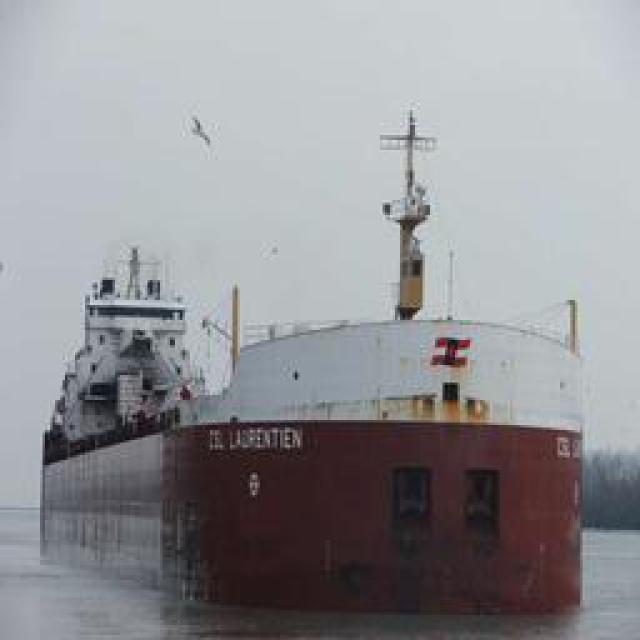Ship: (42, 239, 230, 482)
